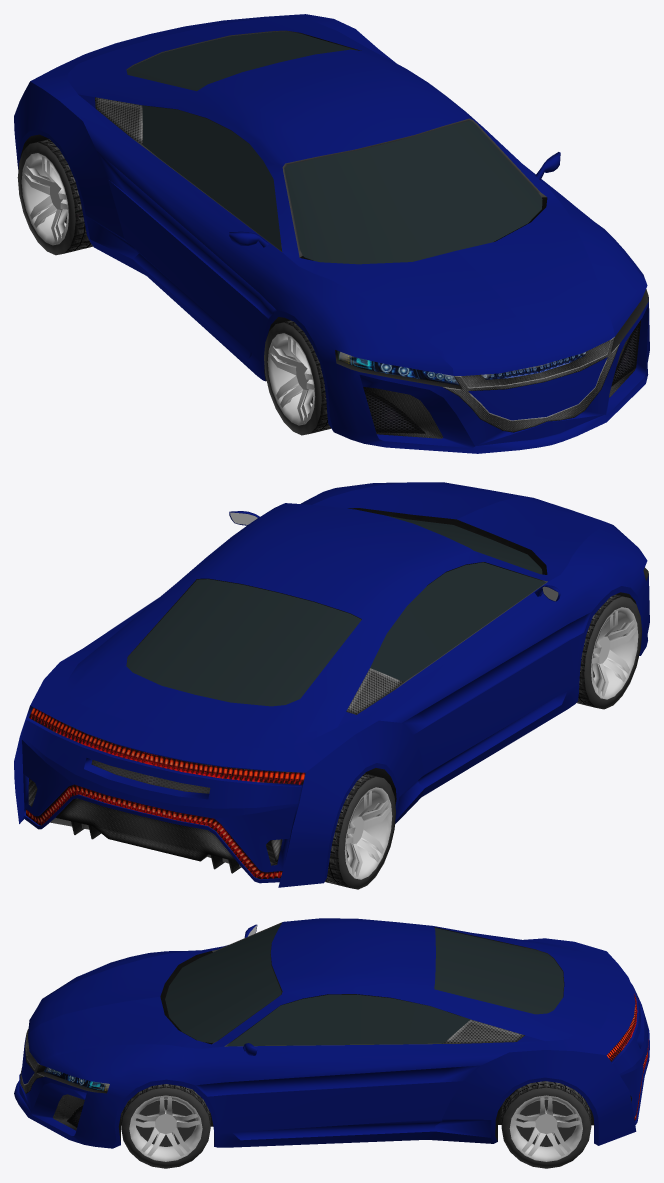
3 renders of one model, top to bottom at view 1: azimuth 30°, elevation 25°; view 2: azimuth 150°, elevation 25°; view 3: azimuth 270°, elevation 25°, orthographic. The views are drawn at different scales.
Visible parts, largest first — view 1: body5, wheel_BR, wheel_FR; view 2: body5, wheel_BR, wheel_FR; view 3: body5, wheel_BL, wheel_FL.
Part boxes in pixels (x1,y1,x2,y2): body5: (14,14,649,453); wheel_BR: (17,139,92,255); wheel_FR: (264,320,331,435); body5: (14,482,649,887); wheel_BR: (325,773,395,889); wheel_FR: (576,594,642,709); body5: (14,918,649,1148); wheel_BL: (501,1081,591,1168); wheel_FL: (121,1084,210,1168).
Bounding box in the file's own units: 215 × 131 × 462.
7 materials, 3 textured.
